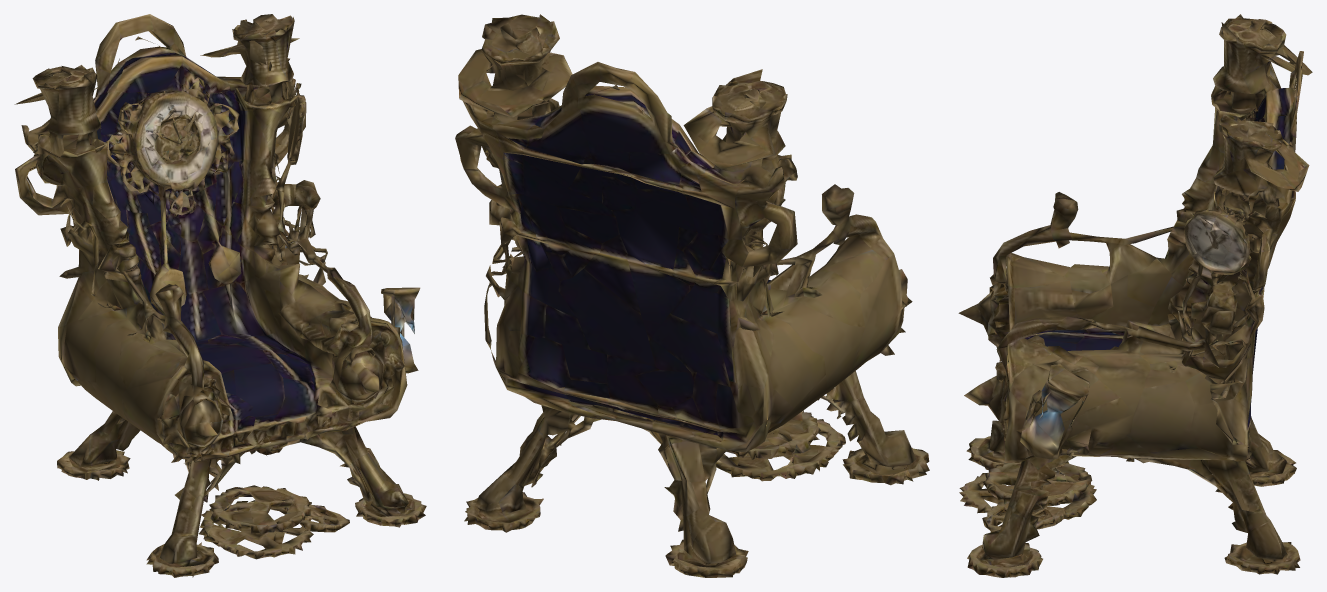
Rendered from chair.glb.
The picture shows the model from 3 angles, left to right: view 1: azimuth 30°, elevation 25°; view 2: azimuth 150°, elevation 25°; view 3: azimuth 270°, elevation 25°; orthographic projection. The views are drawn at different scales.
Bounding box in the file's own units: 1.44 × 1.88 × 1.36.
Materials: 1 (1 with a texture image).
